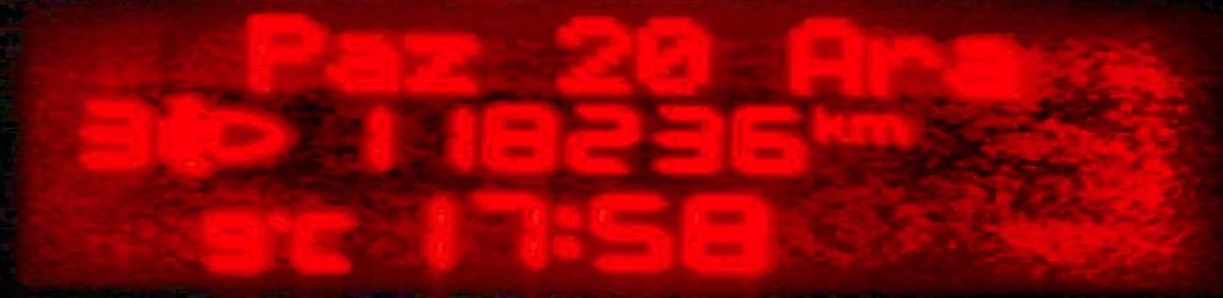0: (639, 12, 718, 93)
1: (416, 189, 460, 282), (356, 100, 398, 179), (439, 99, 480, 171)
2: (546, 10, 638, 97), (565, 98, 641, 177)
3: (74, 94, 148, 176), (654, 100, 729, 179)
5: (586, 185, 673, 275)
6: (731, 99, 812, 181)
7: (470, 182, 547, 274)
8: (677, 188, 775, 284), (477, 99, 563, 173)
9: (194, 203, 269, 277)
X: (237, 8, 328, 93), (785, 16, 870, 97), (400, 24, 490, 97), (949, 36, 1028, 101), (328, 28, 399, 97), (873, 32, 943, 99), (291, 204, 358, 274), (547, 198, 587, 262), (849, 110, 910, 144), (813, 102, 850, 145)
